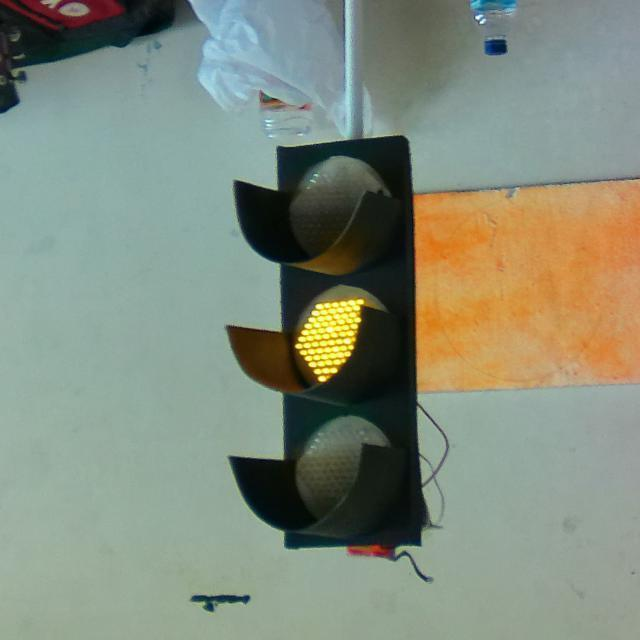yellow_light: (224, 134, 424, 546)
